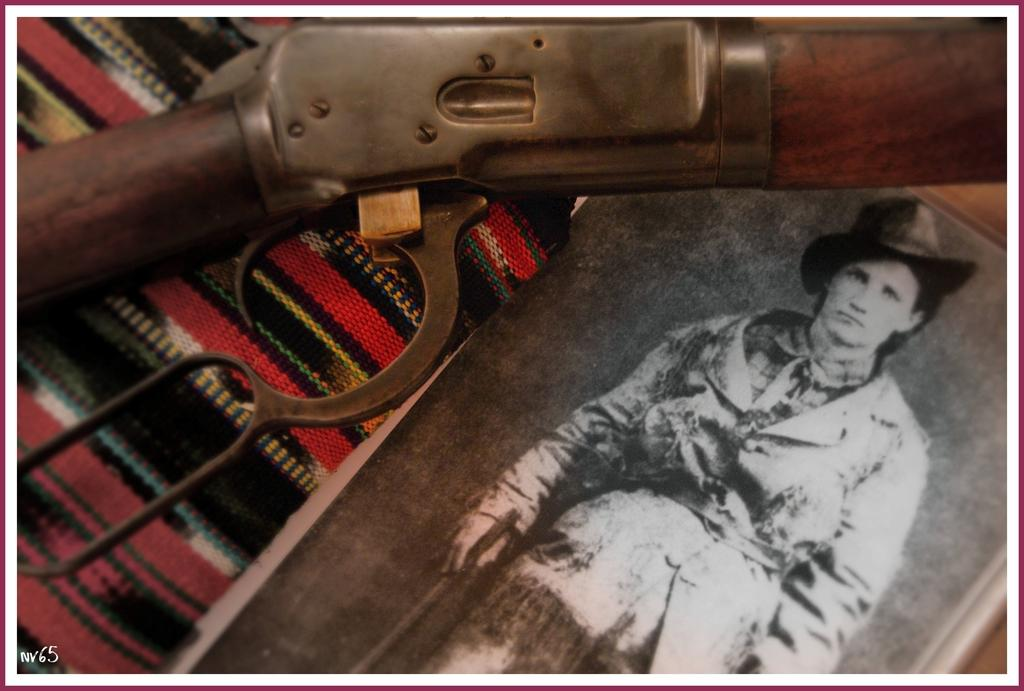Shotgun: (13, 15, 1007, 571)
